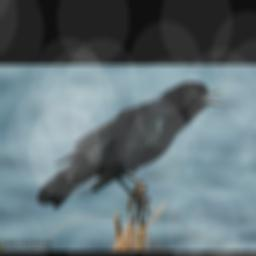Crow: (37, 81, 228, 214)
